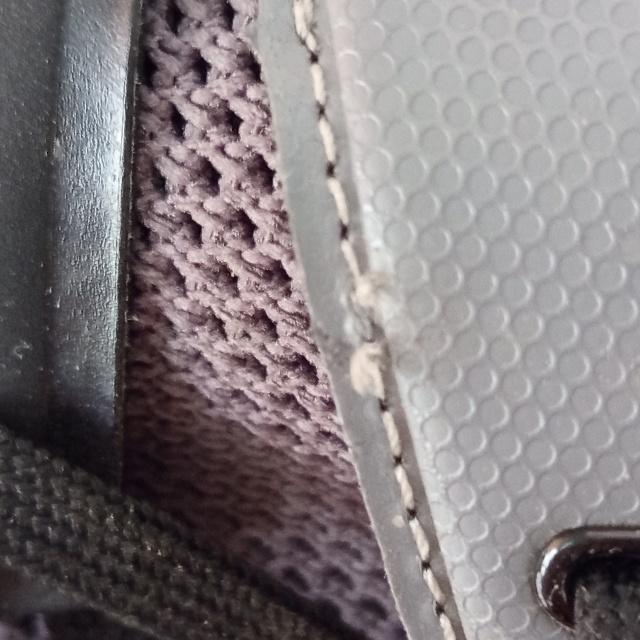broken-error: (330, 268, 406, 410)
